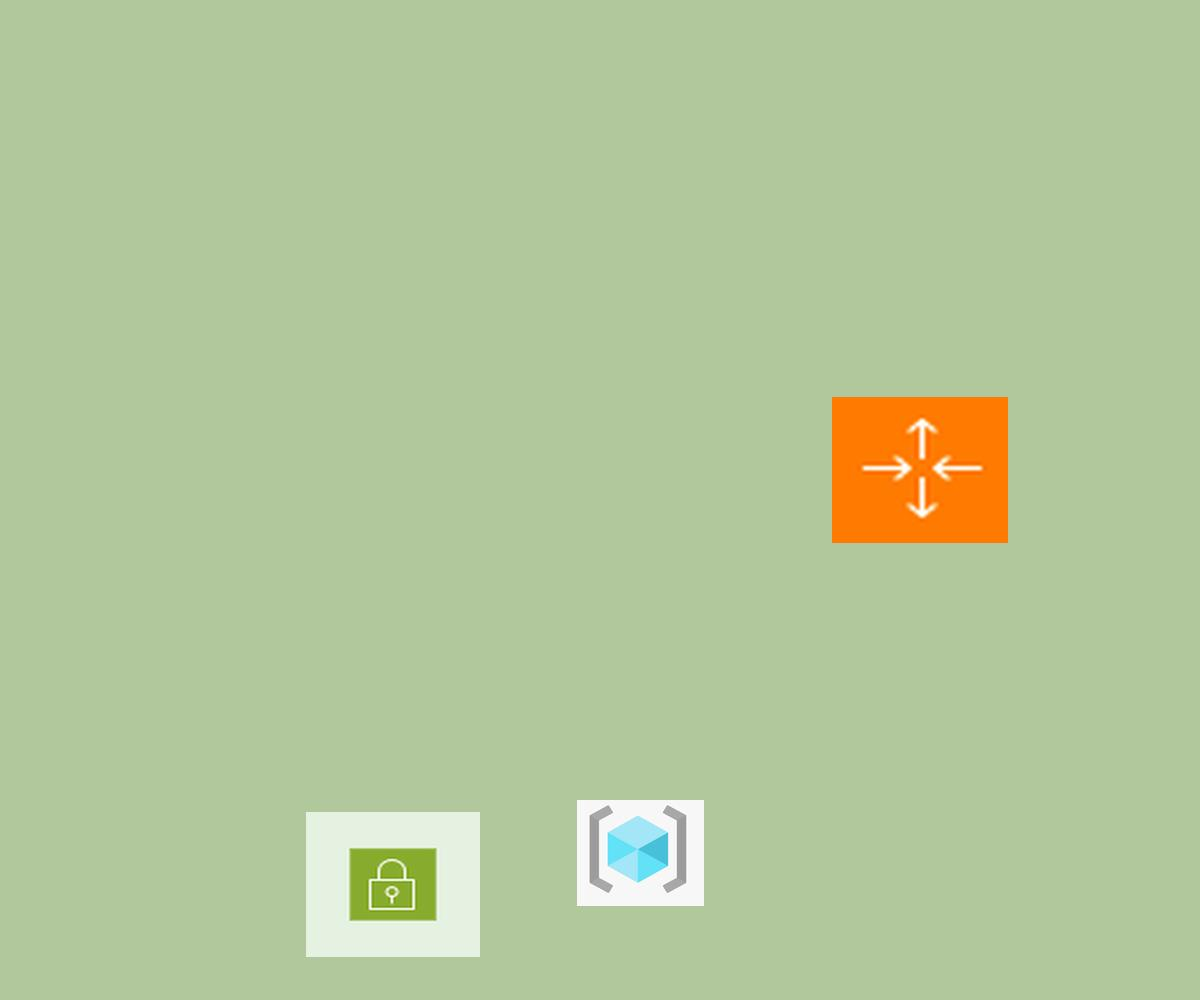AWS-Public-subnet: (306, 812, 480, 957)
AWS-Scaling-group: (832, 397, 1008, 543)
Azure_resource_group: (577, 800, 704, 906)
